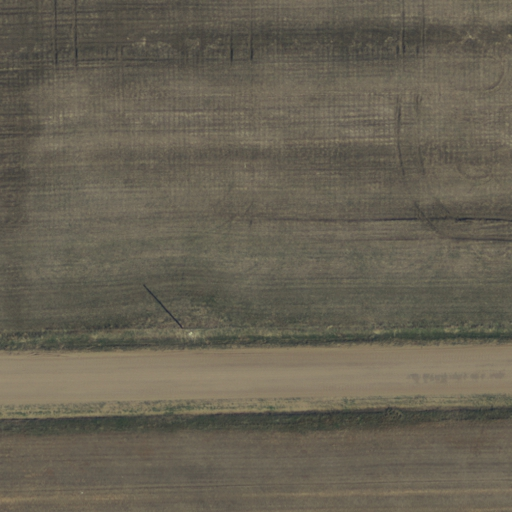DT: (174, 320, 193, 340)
